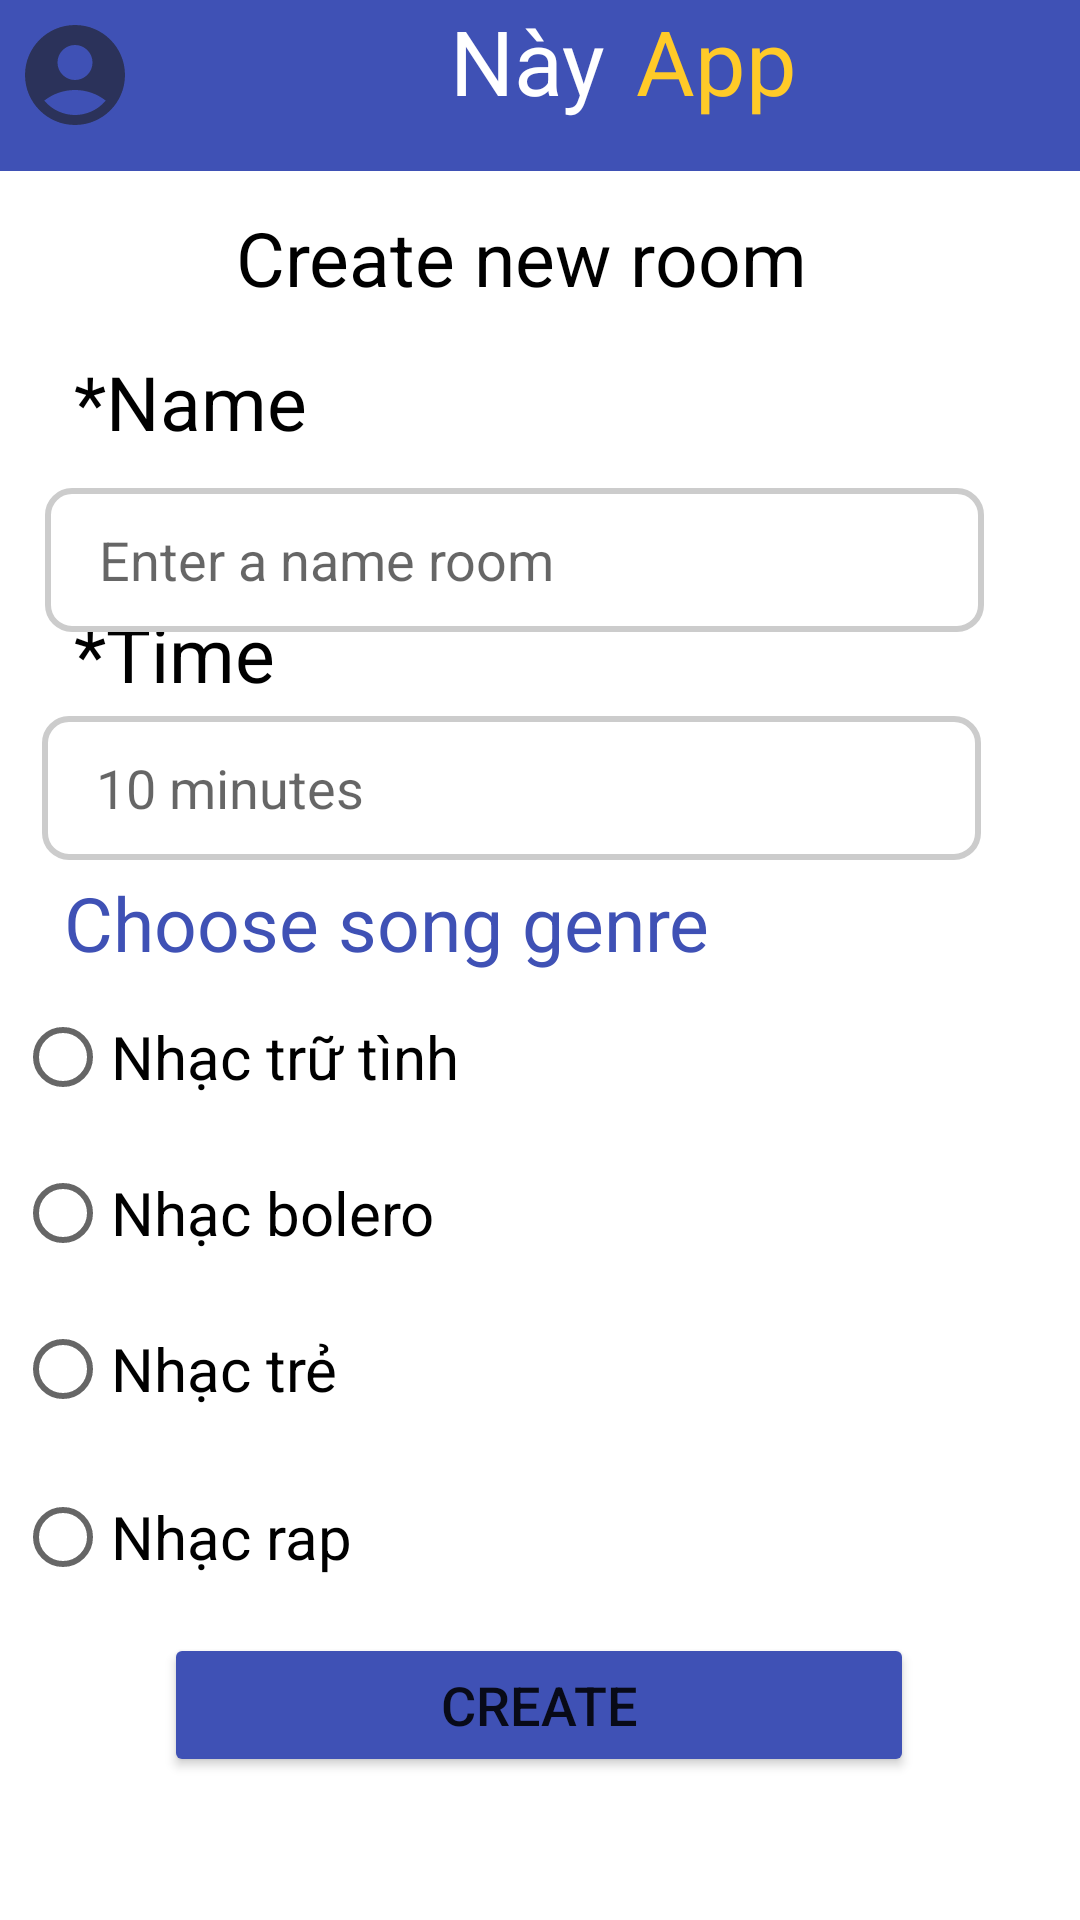

Screen size 1080*1920. Icon name, then its box in pixels as (x1, y1, x2, y2):
account: (25, 25, 125, 125)
